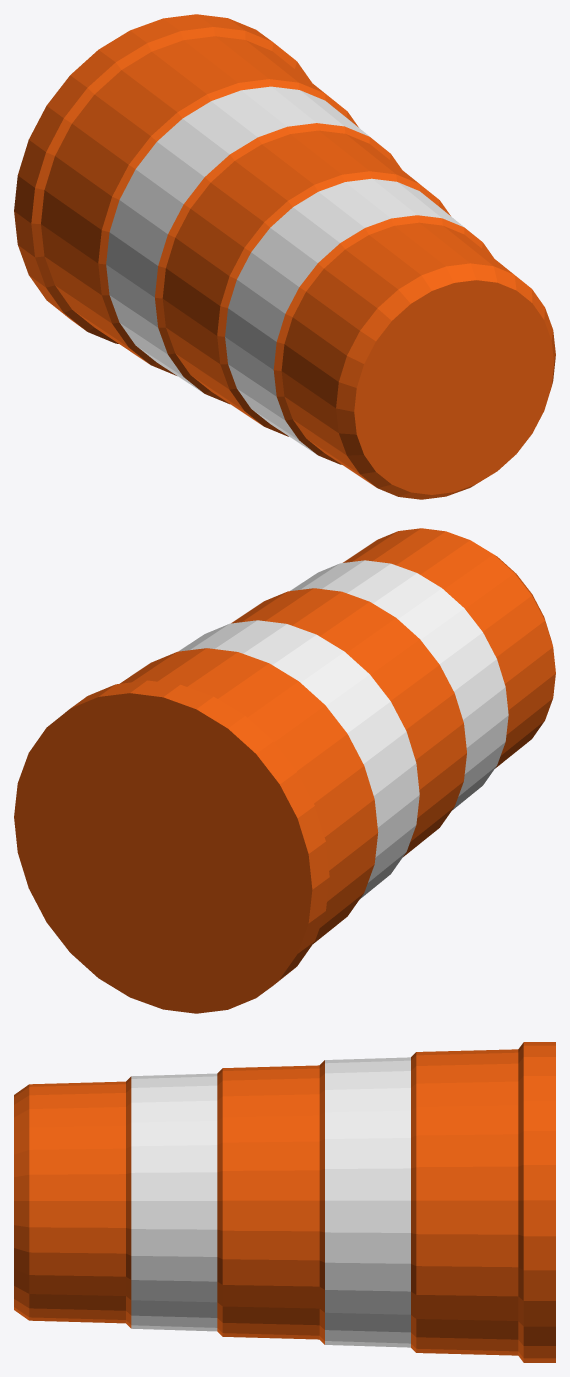
The model's file is barrel.obj.
3 renders of one model, top to bottom at view 1: azimuth 30°, elevation 25°; view 2: azimuth 150°, elevation 25°; view 3: azimuth 270°, elevation 25°, orthographic. The views are drawn at different scales.
Parts seen in each view (by area): view 1: barrel_orange; view 2: barrel_orange; view 3: barrel_orange.
Boxes of the visible parts, <box> form: barrel_orange: <box>14,14,555,499</box>; barrel_orange: <box>14,528,555,1013</box>; barrel_orange: <box>14,1042,555,1362</box>.
Size of the model in its own units: 0.5969 by 0.5969 by 1.01.
